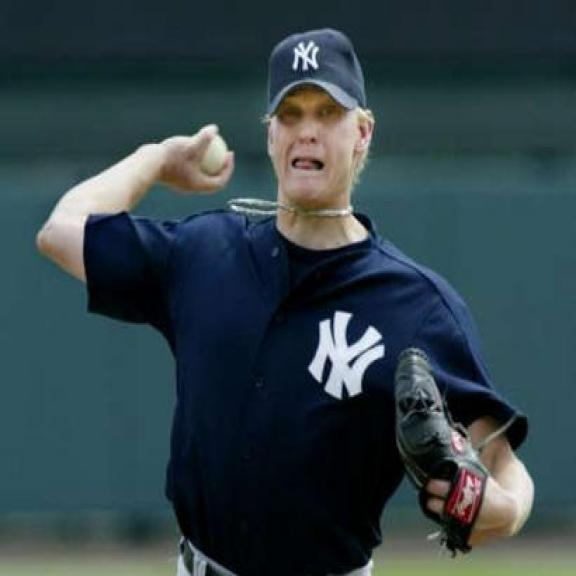face: (268, 90, 373, 204)
